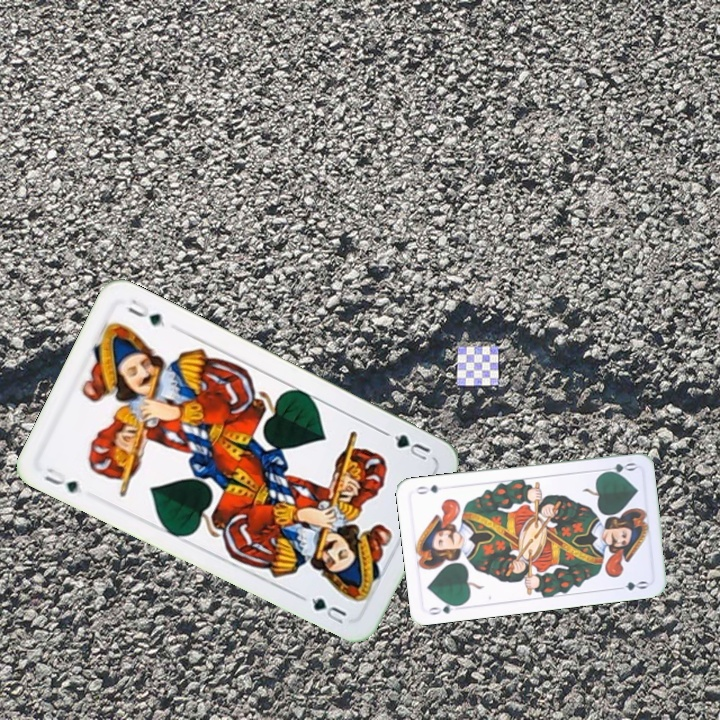GO: (424, 598, 465, 618), (597, 459, 638, 477)
GU: (380, 427, 433, 463), (40, 463, 86, 496)
